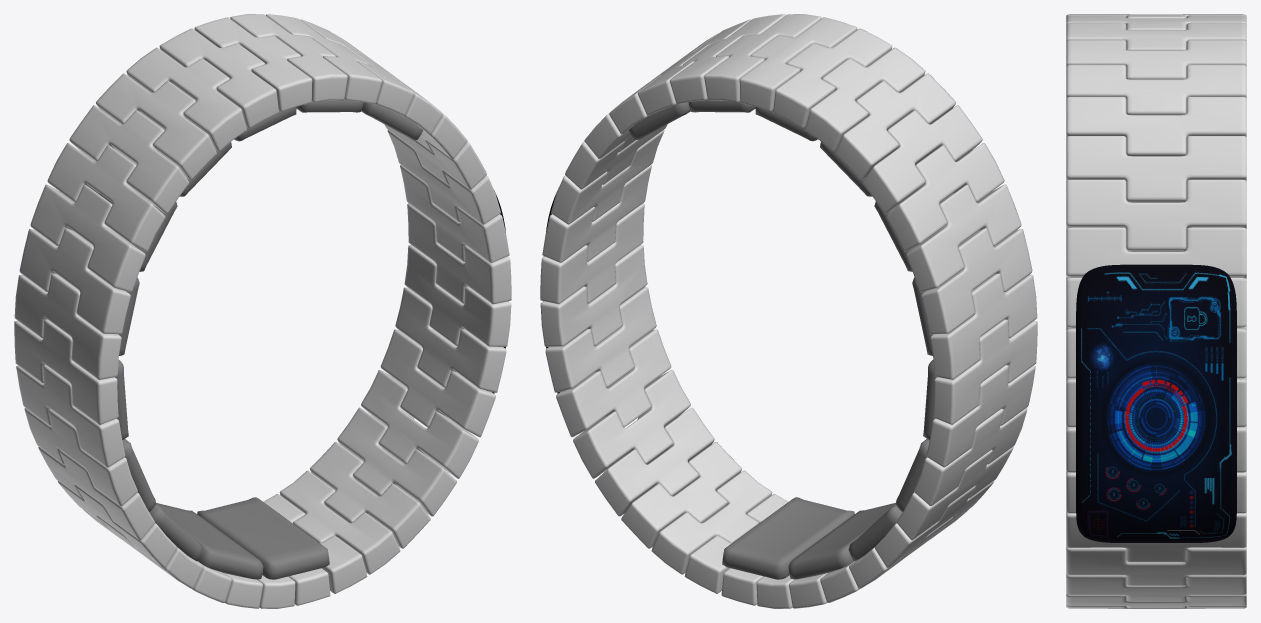
3 views of the same model, side by side, from view 1: azimuth 30°, elevation 25°; view 2: azimuth 150°, elevation 25°; view 3: azimuth 270°, elevation 25° (orthographic). The views are drawn at different scales.
Visible parts, largest first — view 1: Plane.003; view 2: Plane.003; view 3: Plane.003.
Boxes of the visible parts, x1,y1,x2,y2 form: Plane.003: [14, 14, 511, 608]; Plane.003: [540, 14, 1037, 608]; Plane.003: [1066, 14, 1246, 608].
Bounding box in the file's own units: 2.76 × 3.33 × 0.9825.
3 materials, 1 textured.
